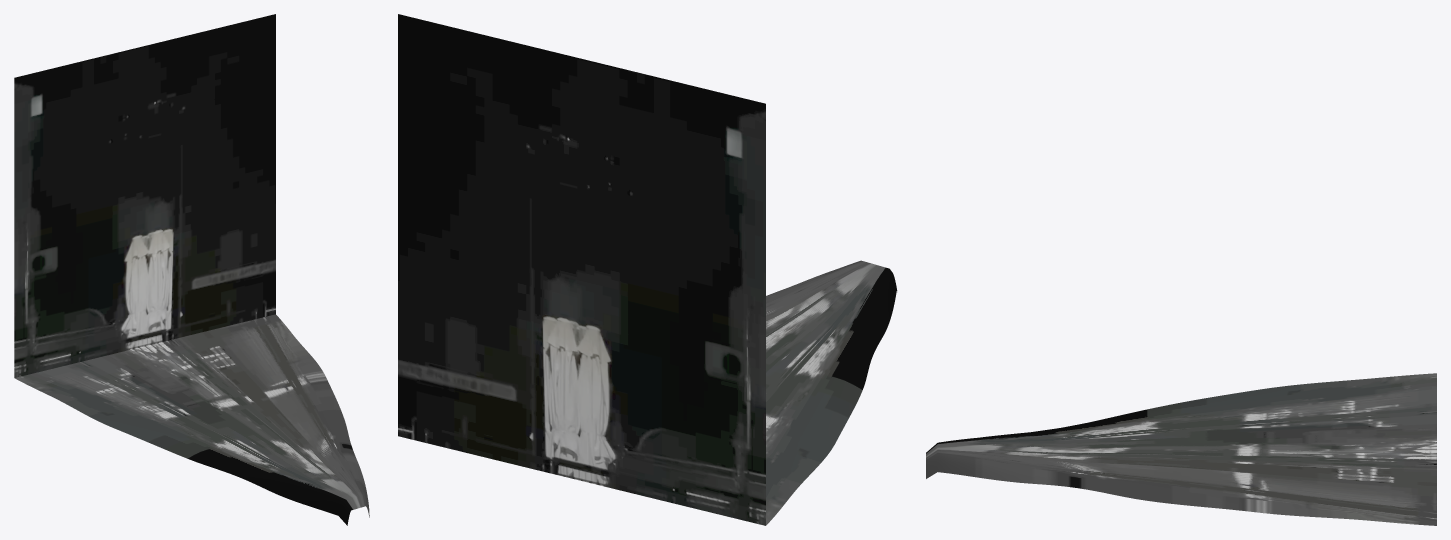
Rendered from feed_projection_01.glb.
3 renders of one model, left to right at view 1: azimuth 30°, elevation 25°; view 2: azimuth 150°, elevation 25°; view 3: azimuth 270°, elevation 25°, orthographic. The views are drawn at different scales.
Parts seen in each view (by area): view 1: BG_Plane, Ground_Mesh; view 2: BG_Plane, Ground_Mesh; view 3: Ground_Mesh.
Part boxes in pixels (x1,y1,x2,y2): BG_Plane: (14,14,275,377); Ground_Mesh: (14,314,369,525); BG_Plane: (398,14,765,525); Ground_Mesh: (766,260,897,525); Ground_Mesh: (926,373,1436,525).
Bounding box in the file's own units: 6.01 × 7.05 × 8.5.
Materials: 2 (2 with a texture image).
